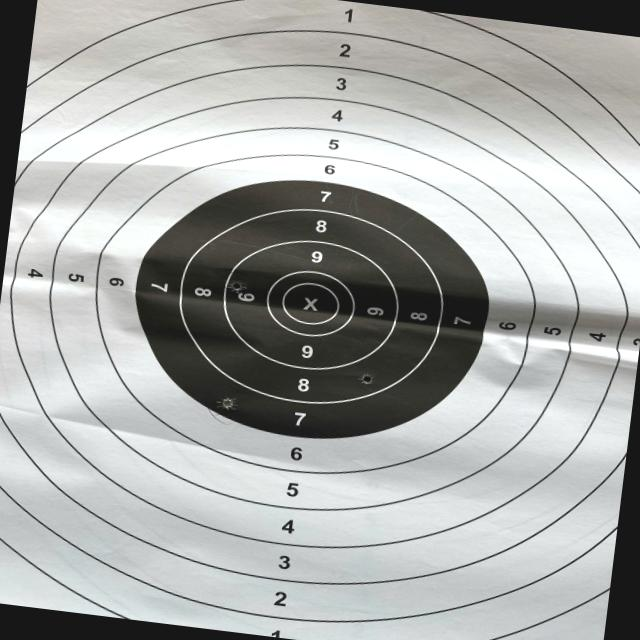bullet: (361, 374, 373, 386), (232, 281, 243, 293), (225, 397, 233, 410)
target: (0, 0, 640, 640)
